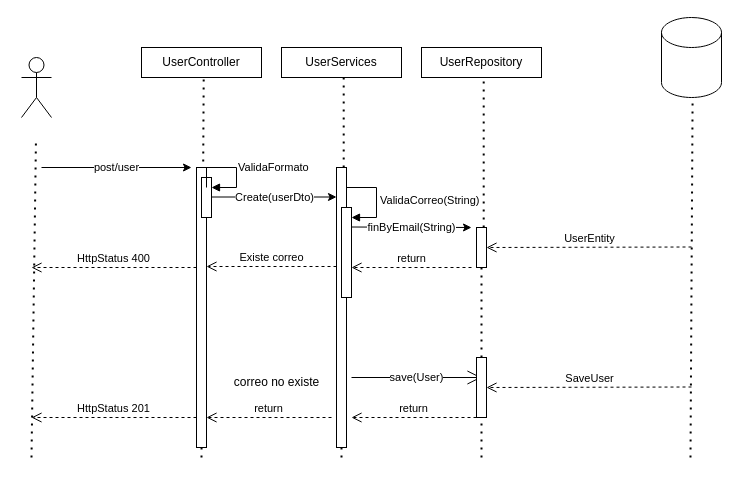
Some shapes in this 739 by 477 pixel diagram are drawn without their labels. Each missing label, with the centre of its shape:
"H2" goes at [691,57].
"usuario" goes at [36,87].
